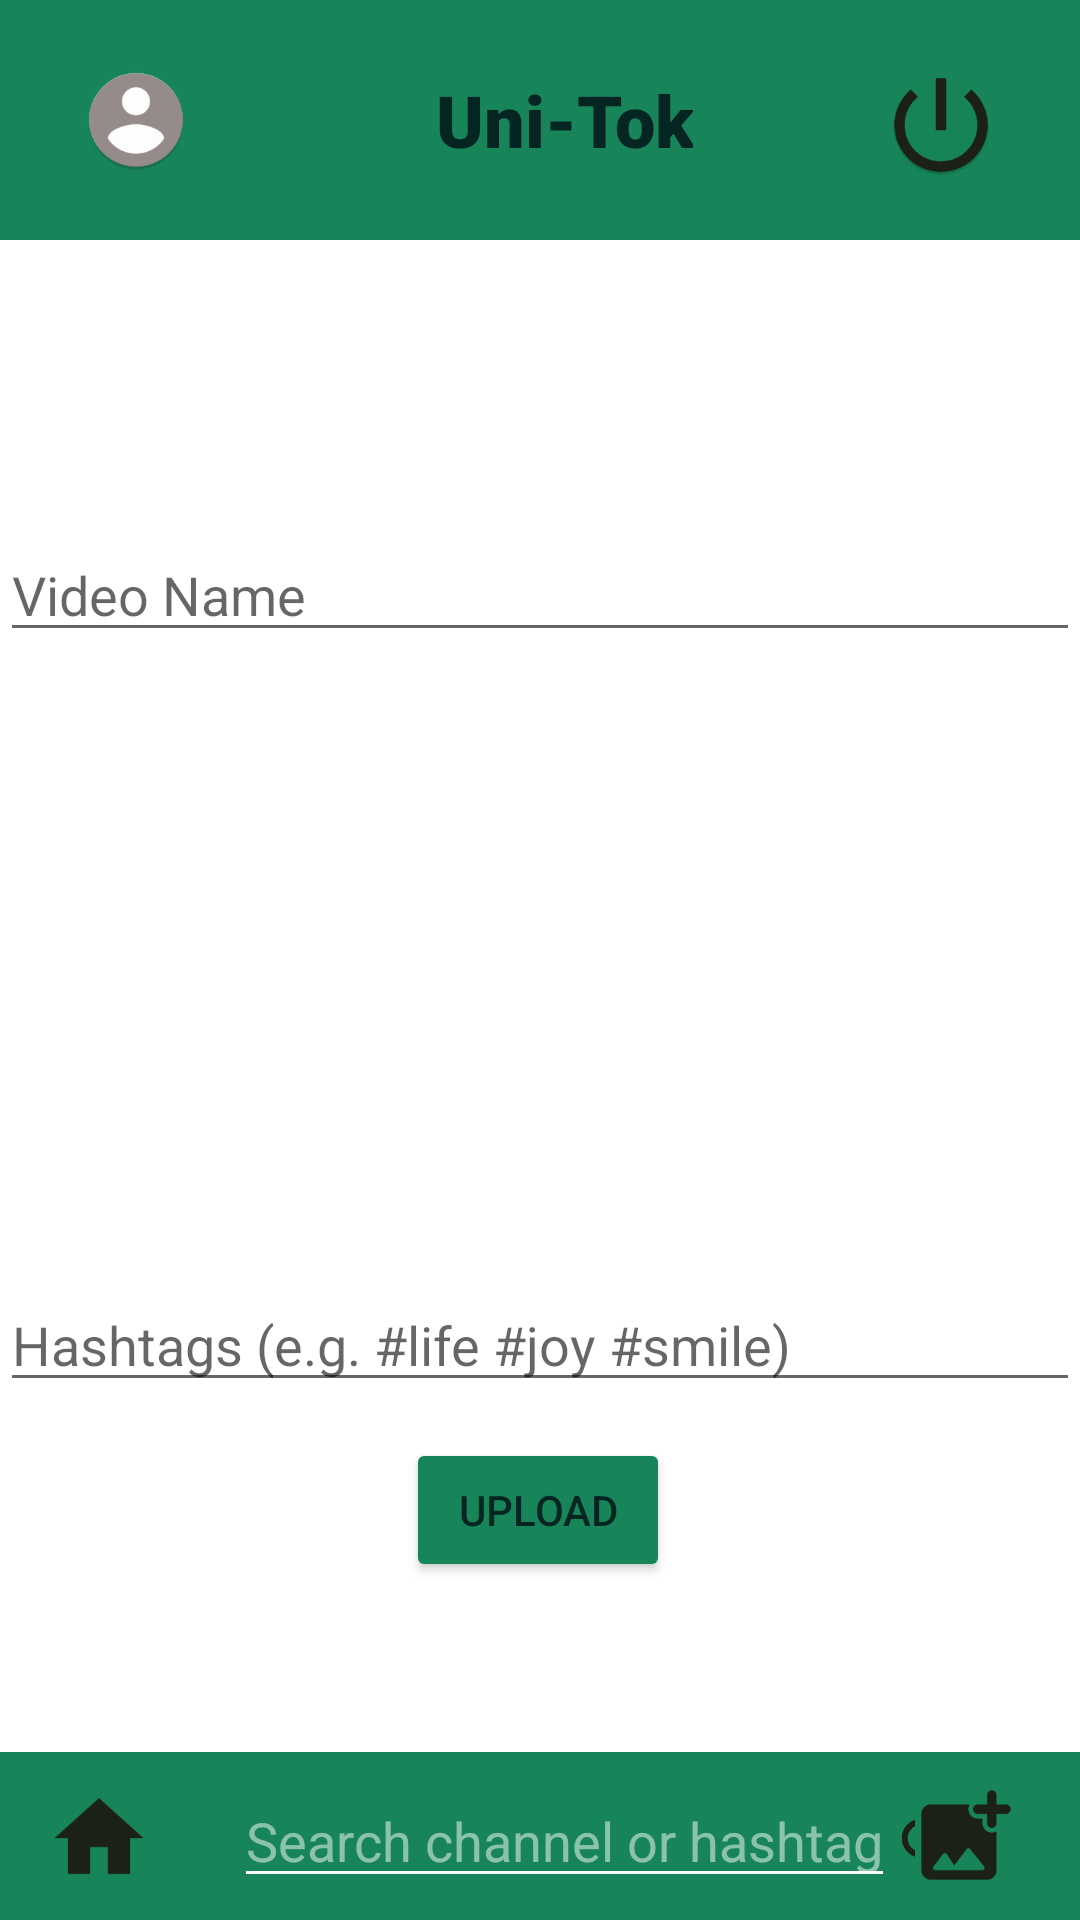

Where icons sit on this 1080px x 1920px app screen, as (x1, y1, x2, y2):
exit: (894, 78, 988, 173)
home page: (55, 1798, 143, 1874)
profile: (89, 73, 183, 168)
